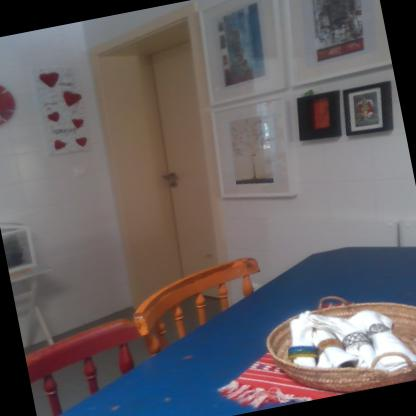closed: (82, 5, 242, 280)
